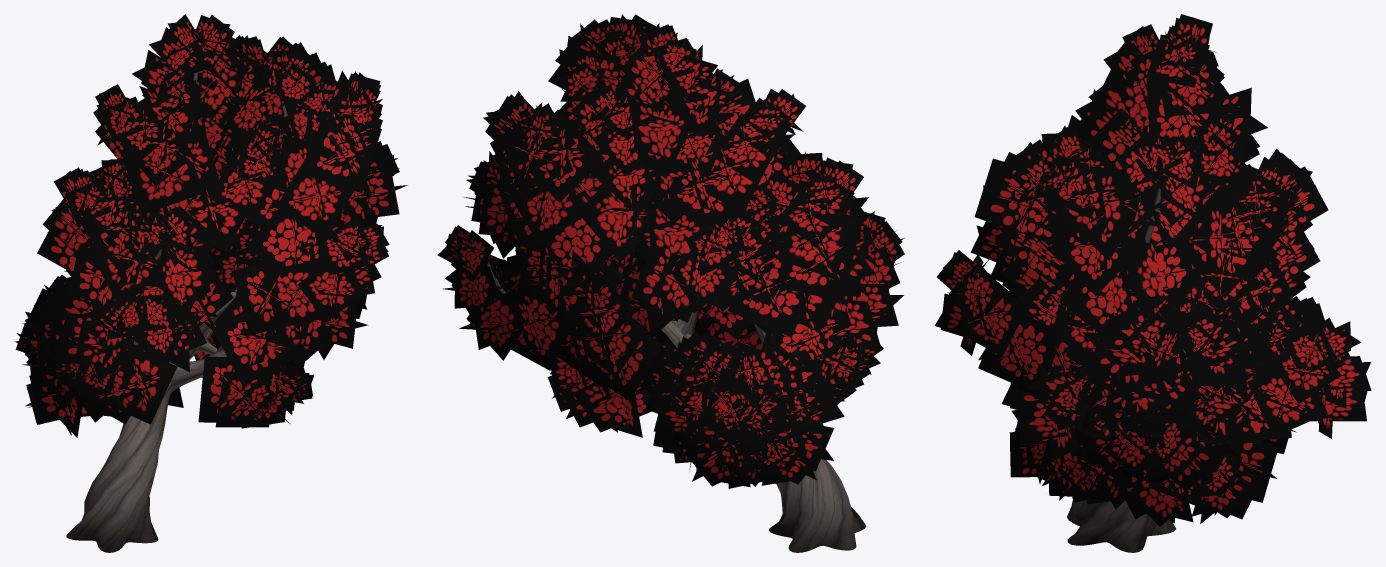
The model's file is twistedtree_1.gltf.
The picture shows the model from 3 angles, left to right: view 1: azimuth 30°, elevation 25°; view 2: azimuth 150°, elevation 25°; view 3: azimuth 270°, elevation 25°; orthographic projection. The views are drawn at different scales.
Visible parts, largest first — view 1: TwistedTree_1; view 2: TwistedTree_1; view 3: TwistedTree_1.
Part boxes in pixels (x1,y1,x2,y2): TwistedTree_1: (14,14,407,552); TwistedTree_1: (437,14,904,552); TwistedTree_1: (934,14,1371,552).
Size of the model in its own units: 13.52 by 16.73 by 11.55.
Materials: 2 (2 with a texture image).
